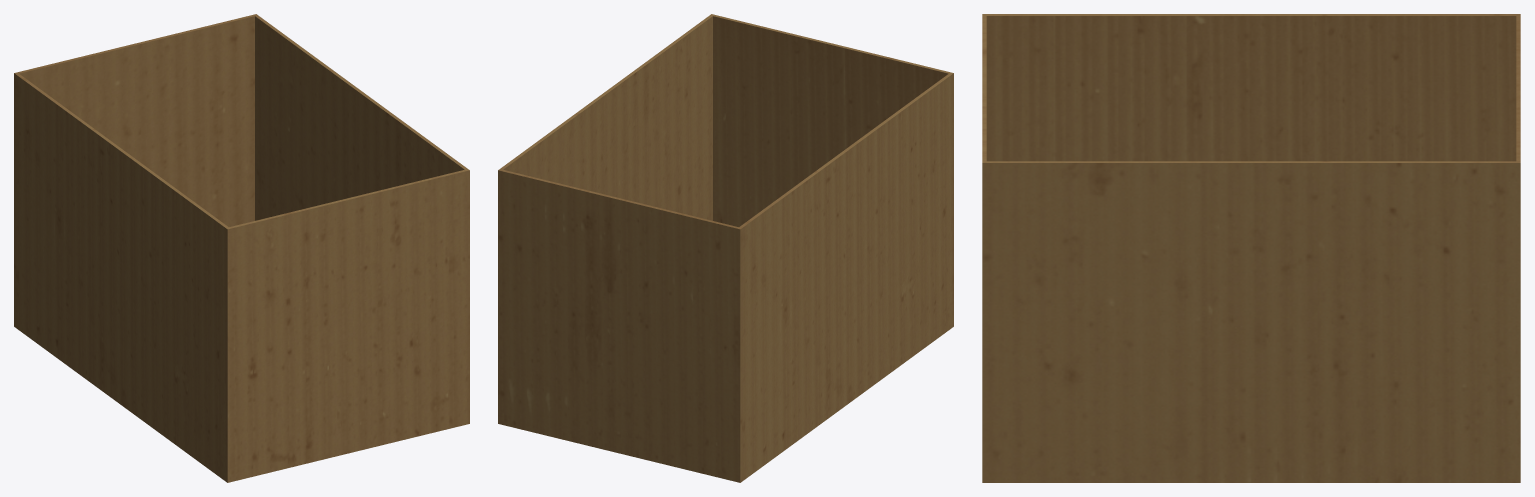
Rendered from Carton.fbx.
The picture shows the model from 3 angles, left to right: view 1: azimuth 30°, elevation 25°; view 2: azimuth 150°, elevation 25°; view 3: azimuth 270°, elevation 25°; orthographic projection. The views are drawn at different scales.
Parts seen in each view (by area): view 1: Carton; view 2: Carton; view 3: Carton.
Part boxes in pixels (box(x1,y1,x2,y2)): Carton: box(14, 14, 469, 482); Carton: box(498, 14, 953, 482); Carton: box(982, 14, 1520, 482).
Bounding box in the file's own units: 38 × 38 × 58.
